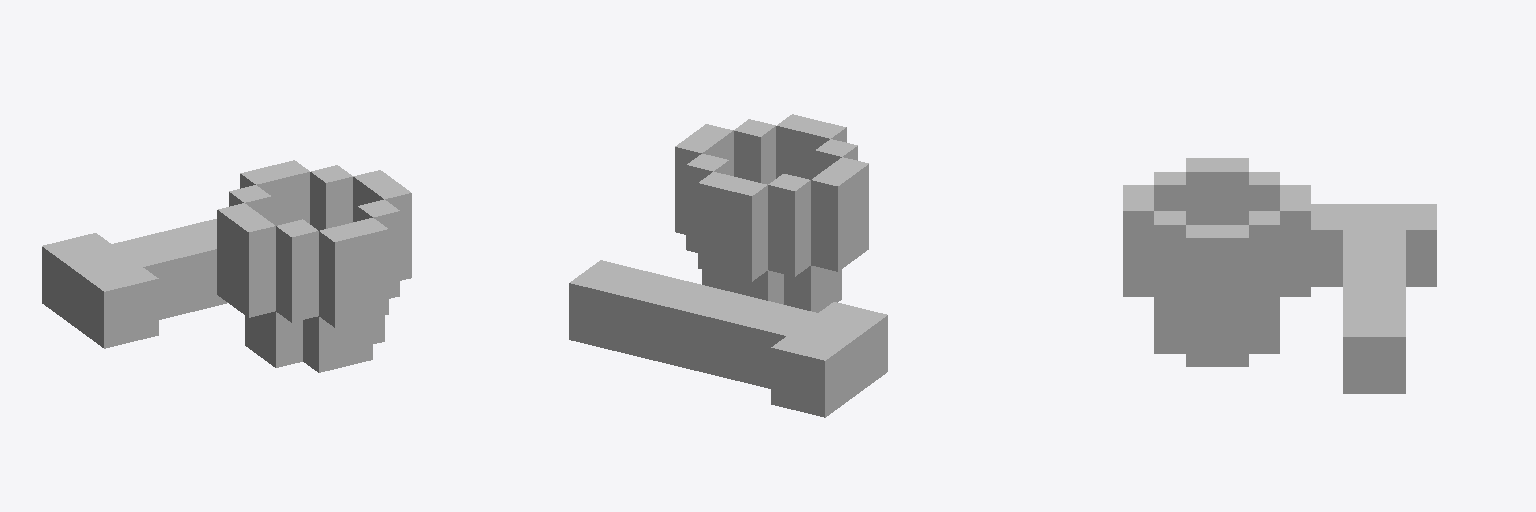
File: hardcook_mortar_with_pestle.obj
3 renders of one model, left to right at view 1: azimuth 30°, elevation 25°; view 2: azimuth 150°, elevation 25°; view 3: azimuth 270°, elevation 25°, orthographic.
Visible parts, largest first — view 1: node_0_0_0, node_0_0_0.001; view 2: node_0_0_0, node_0_0_0.001; view 3: node_0_0_0, node_0_0_0.001.
Boxes of the visible parts, box(x1,y1,x2,y2) form: node_0_0_0: box(217, 160, 411, 372); node_0_0_0.001: box(42, 219, 227, 348); node_0_0_0: box(675, 114, 868, 312); node_0_0_0.001: box(569, 260, 887, 417); node_0_0_0: box(1123, 158, 1310, 366); node_0_0_0.001: box(1311, 204, 1436, 393).
Bounding box in the file's own units: 0.625 × 0.3125 × 0.625.